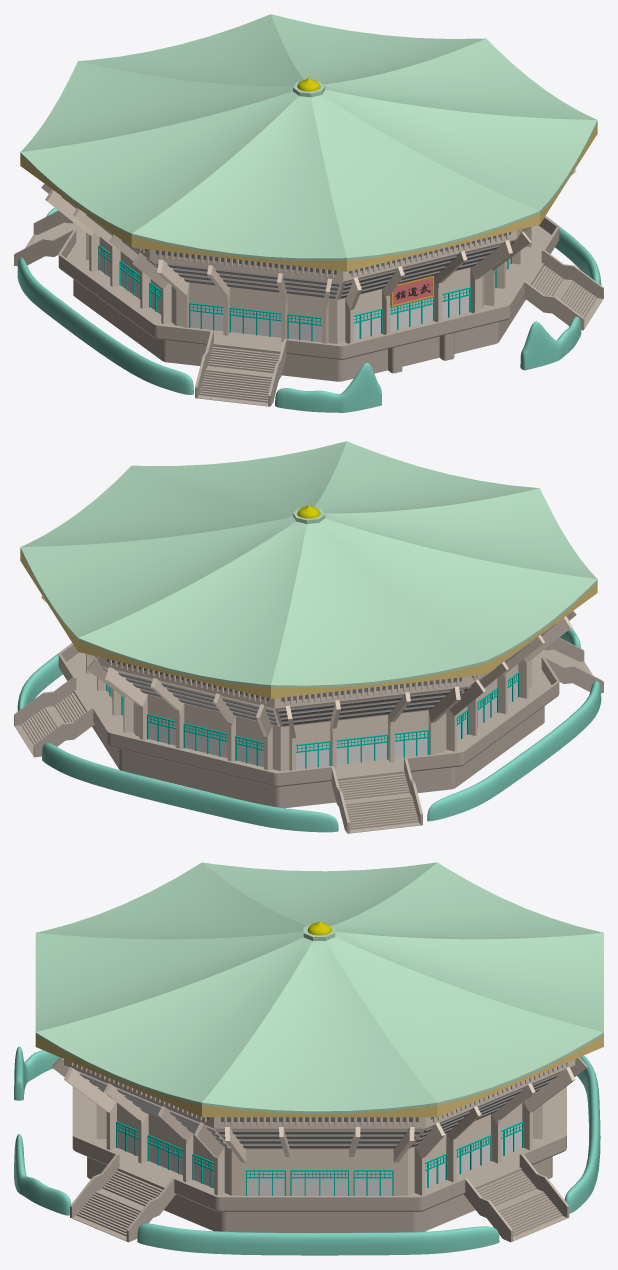
The picture shows the model from 3 angles, top to bottom: view 1: azimuth 30°, elevation 25°; view 2: azimuth 150°, elevation 25°; view 3: azimuth 270°, elevation 25°; orthographic projection. The views are drawn at different scales.
Parts seen in each view (by area): view 1: 034_arch_nBudokan; view 2: 034_arch_nBudokan; view 3: 034_arch_nBudokan.
Part boxes in pixels (<box>): 034_arch_nBudokan: <box>14,14,603,412</box>; 034_arch_nBudokan: <box>14,441,603,833</box>; 034_arch_nBudokan: <box>14,862,603,1255</box>.
Size of the model in its own units: 0.1991 by 0.0834 by 0.2066.
